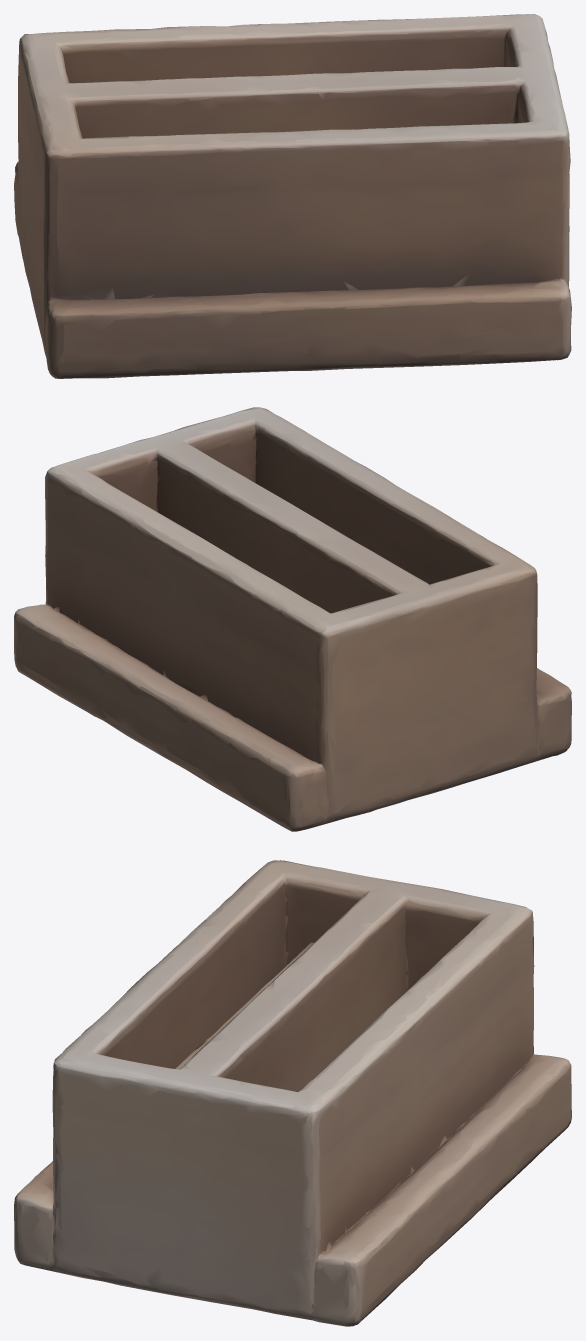
The model's file is 0010_mask_011_wooden_desk_organizer.glb.
The picture shows the model from 3 angles, top to bottom: view 1: azimuth 30°, elevation 25°; view 2: azimuth 150°, elevation 25°; view 3: azimuth 270°, elevation 25°; orthographic projection. The views are drawn at different scales.
Parts seen in each view (by area): view 1: mask_011_object; view 2: mask_011_object; view 3: mask_011_object.
Part boxes in pixels (box(x1,y1,x2,y2)): mask_011_object: box(14, 14, 571, 378); mask_011_object: box(14, 407, 571, 831); mask_011_object: box(14, 860, 571, 1326).
Size of the model in its own units: 0.3325 by 0.127 by 0.2926.
